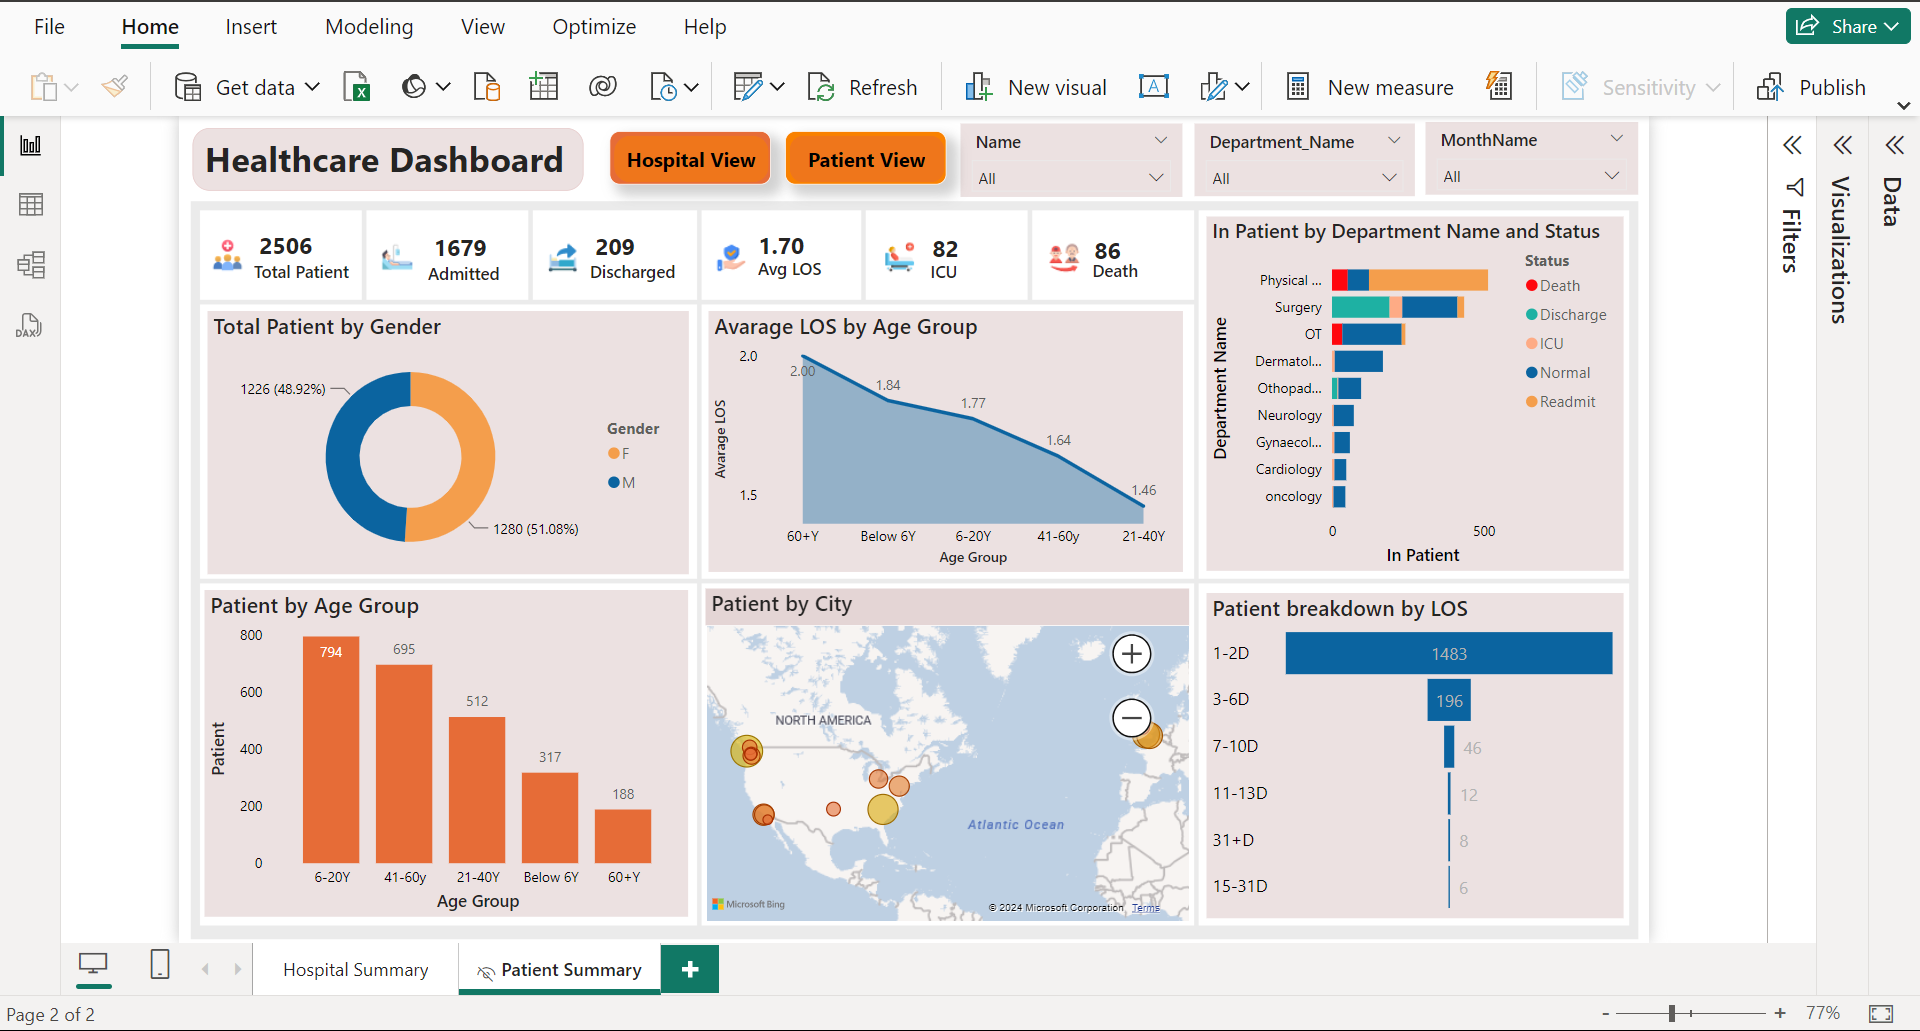

The page's visual inventory and layout, read from the dashboard file:
{"tool":"powerbi","page":{"name":"Patient Summary","canvas":[1280,720],"ordinal":1},"visuals":[{"type":"card","fields":{"Values":["Measure.Total Patient"]},"box":[55.7,92.9,72.9,42.9],"z":0},{"type":"card","title":"Admission","fields":{"Values":["Measure.In Patient"]},"box":[195.7,95.7,97.1,40],"z":1000},{"type":"card","fields":{"Values":["Bed_Detail.Discharge"]},"box":[342.9,98.6,74.3,34.3],"z":2000},{"type":"donutChart","fields":{"Category":["Detail data dataset.Gender"],"Y":["Measure.Total Patient"]},"box":[24.2,169.6,419,229],"z":3000},{"type":"columnChart","fields":{"Y":["Measure.Total Patient"],"Category":["Detail data dataset.Age Bucket"]},"box":[22.7,413.4,421,284.7],"z":4000},{"type":"funnel","title":"Patient breakdown by LOS","fields":{"Y":["Measure.Total Patient"],"Category":["Detail data dataset.Custom"]},"box":[894.9,414.9,363.4,283.2],"z":5000},{"type":"areaChart","fields":{"Y":["Measure.Avarage LOS"],"Category":["Detail data dataset.Age Bucket"]},"box":[461.8,169.6,413.4,227],"z":6000},{"type":"barChart","fields":{"Category":["Department.Department_Name"],"Y":["Measure.In Patient"],"Series":["Detail data dataset.Status"]},"box":[894.9,87.8,363.4,308.9],"z":7000},{"type":"map","fields":{"Size":["Measure.Total Patient"],"Category":["Detail data dataset.City"]},"box":[458.8,437.6,419.4,260.4],"z":8000},{"type":"card","fields":{"Values":["Measure.Avarage LOS"]},"box":[490,95.7,68.6,37.1],"z":10000},{"type":"slicer","fields":{"Values":["Calendar_date.MonthName"]},"box":[1085.7,5.7,185,63],"z":11000},{"type":"slicer","fields":{"Values":["Department.Department_Name"]},"box":[884.3,6.1,192.3,63.6],"z":12000},{"type":"slicer","fields":{"Values":["Detail data dataset.Name"]},"box":[681.4,6.1,193,64],"z":13000},{"type":"textbox","title":"Total Patient","box":[60,125.7,97.1,21.4],"z":14000},{"type":"textbox","title":"Admitted","box":[211.4,127.1,97.1,21.4],"z":15000},{"type":"textbox","title":"Discharged","box":[352.9,125.7,97.1,21.4],"z":16000},{"type":"card","fields":{"Values":["Measure.ICU"]},"box":[625.7,98.6,82.9,37.1],"z":17000},{"type":"textbox","title":"Avg LOS","box":[498.6,122.9,105.7,24.3],"z":18000},{"type":"textbox","title":"ICU","box":[650,125.7,61.4,22.9],"z":19000},{"type":"card","fields":{"Values":["Measure.Death"]},"box":[774.3,102.9,67.1,30],"z":20000},{"type":"textbox","title":"Death","box":[790,124.3,61.4,22.9],"z":21000},{"type":"textbox","title":"Patient by City","box":[458.8,411.9,419.4,31.8],"z":22000},{"type":"textbox","title":"Healthcare Dashboard","box":[12.1,10.6,340.7,54.5],"z":23000},{"type":"actionButton","box":[375.5,13.6,140.8,46.9],"z":24000},{"type":"actionButton","box":[528.5,13.6,140.8,46.9],"z":25000}]}

Visuals, with their boxes on the page's 1280x720 design canvas (x1, y1, x2, y2). These are canvas units, not pixel positions in the 1920x1031 screenshot, which may show the page scaled, cropped or inside an application window:
card - Measure.Total Patient: box(56, 93, 129, 136)
"Admission" card: box(196, 96, 293, 136)
card - Bed_Detail.Discharge: box(343, 99, 417, 133)
donutChart - Detail data dataset.Gender x Measure.Total Patient: box(24, 170, 443, 399)
columnChart - Measure.Total Patient x Detail data dataset.Age Bucket: box(23, 413, 444, 698)
"Patient breakdown by LOS" funnel: box(895, 415, 1258, 698)
areaChart - Measure.Avarage LOS x Detail data dataset.Age Bucket: box(462, 170, 875, 397)
barChart - Department.Department_Name x Measure.In Patient: box(895, 88, 1258, 397)
map - Measure.Total Patient x Detail data dataset.City: box(459, 438, 878, 698)
card - Measure.Avarage LOS: box(490, 96, 559, 133)
slicer - Calendar_date.MonthName: box(1086, 6, 1271, 69)
slicer - Department.Department_Name: box(884, 6, 1077, 70)
slicer - Detail data dataset.Name: box(681, 6, 874, 70)
"Total Patient" textbox: box(60, 126, 157, 147)
"Admitted" textbox: box(211, 127, 308, 148)
"Discharged" textbox: box(353, 126, 450, 147)
card - Measure.ICU: box(626, 99, 709, 136)
"Avg LOS" textbox: box(499, 123, 604, 147)
"ICU" textbox: box(650, 126, 711, 149)
card - Measure.Death: box(774, 103, 841, 133)
"Death" textbox: box(790, 124, 851, 147)
"Patient by City" textbox: box(459, 412, 878, 444)
"Healthcare Dashboard" textbox: box(12, 11, 353, 65)
actionButton: box(376, 14, 516, 60)
actionButton: box(528, 14, 669, 60)
